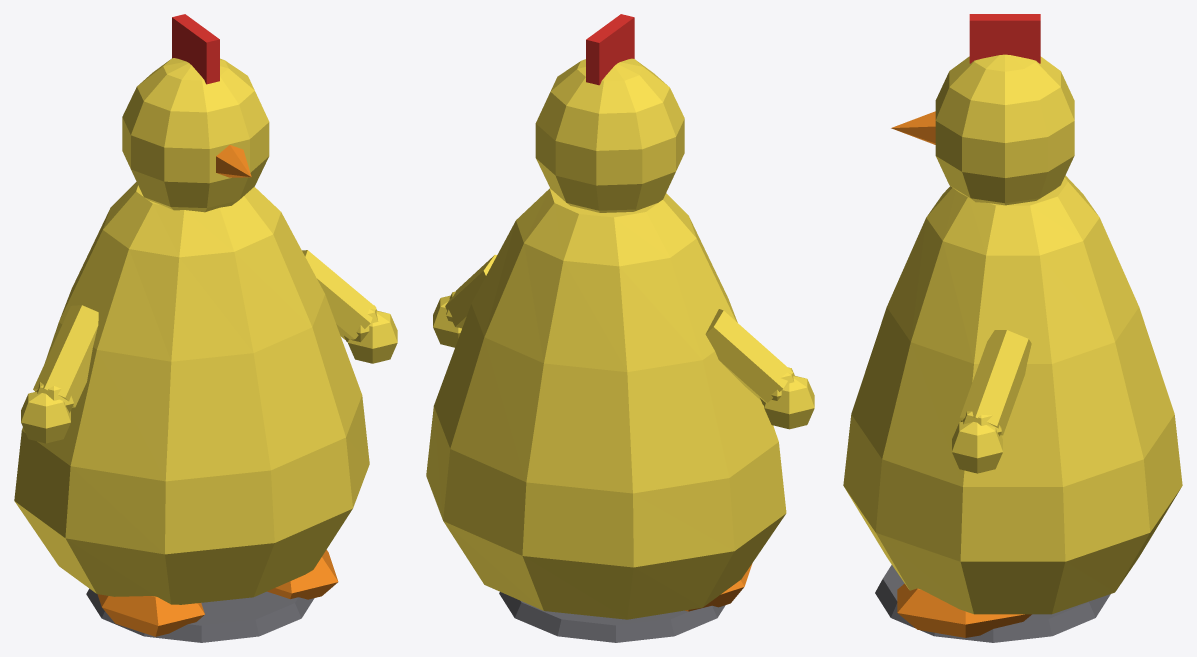
The model's file is mannequin_chicken.glb.
3 views of the same model, side by side, from view 1: azimuth 30°, elevation 25°; view 2: azimuth 150°, elevation 25°; view 3: azimuth 270°, elevation 25° (orthographic). The views are drawn at different scales.
Parts seen in each view (by area): view 1: body_chicken_yellow, head_chicken_yellow, arms_chicken_yellow, stand_mannequin_stand, legs_chicken_feet, crest_chicken_crest, beak_chicken_feet; view 2: body_chicken_yellow, head_chicken_yellow, arms_chicken_yellow, stand_mannequin_stand, crest_chicken_crest, legs_chicken_feet; view 3: body_chicken_yellow, head_chicken_yellow, arms_chicken_yellow, stand_mannequin_stand, legs_chicken_feet, crest_chicken_crest, beak_chicken_feet.
Part boxes in pixels (x1,y1,x2,y2): body_chicken_yellow: (14, 182, 369, 604); head_chicken_yellow: (122, 58, 269, 212); arms_chicken_yellow: (21, 250, 397, 443); stand_mannequin_stand: (86, 588, 314, 642); legs_chicken_feet: (97, 550, 338, 636); crest_chicken_crest: (172, 14, 219, 84); beak_chicken_feet: (216, 145, 251, 177); body_chicken_yellow: (426, 188, 786, 619); head_chicken_yellow: (535, 58, 684, 212); arms_chicken_yellow: (433, 254, 814, 429); stand_mannequin_stand: (499, 592, 725, 642); crest_chicken_crest: (586, 14, 634, 85); legs_chicken_feet: (685, 563, 752, 611); body_chicken_yellow: (843, 175, 1182, 614); head_chicken_yellow: (935, 54, 1074, 205); arms_chicken_yellow: (952, 330, 1031, 473); stand_mannequin_stand: (875, 565, 1110, 642); legs_chicken_feet: (897, 583, 1031, 637); crest_chicken_crest: (969, 14, 1040, 63); beak_chicken_feet: (891, 111, 935, 144).
Bounding box in the file's own units: 1.13 × 1.62 × 0.86.
